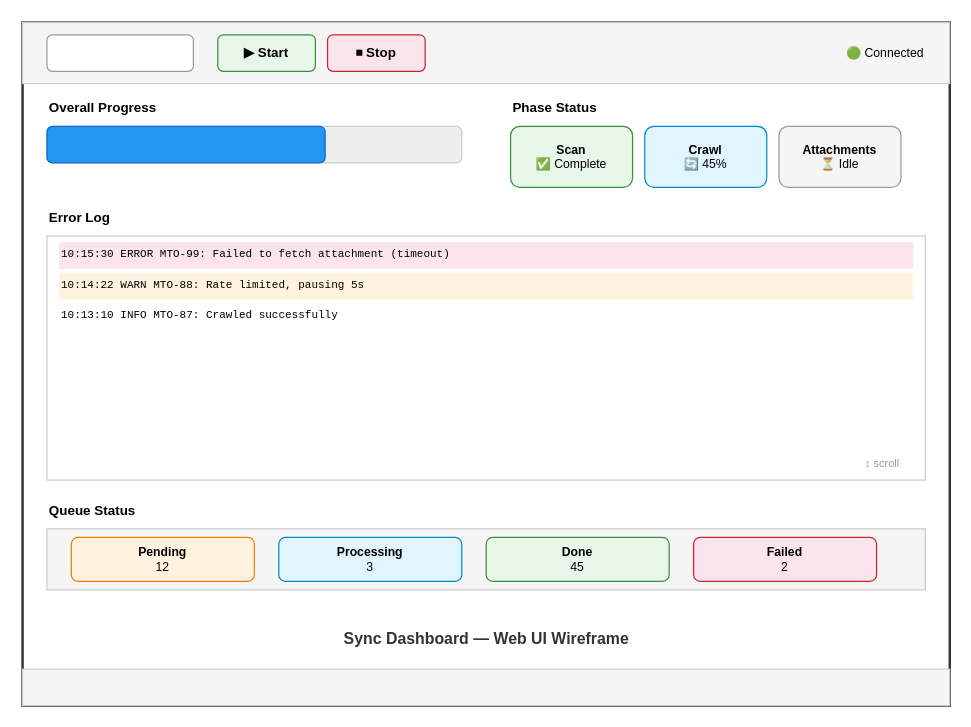
This 971x727 diagram has some shape labels left out. The box of each missing label's shape, as (x1, y1, x2, y2) in pixels:
67% — 45/67 issues: (46, 125, 325, 163)
Project ▼: (46, 34, 193, 71)
Status: Syncing | Last sync: 2026-05-07 10:00 | WebSocket: Connected: (21, 668, 950, 706)
